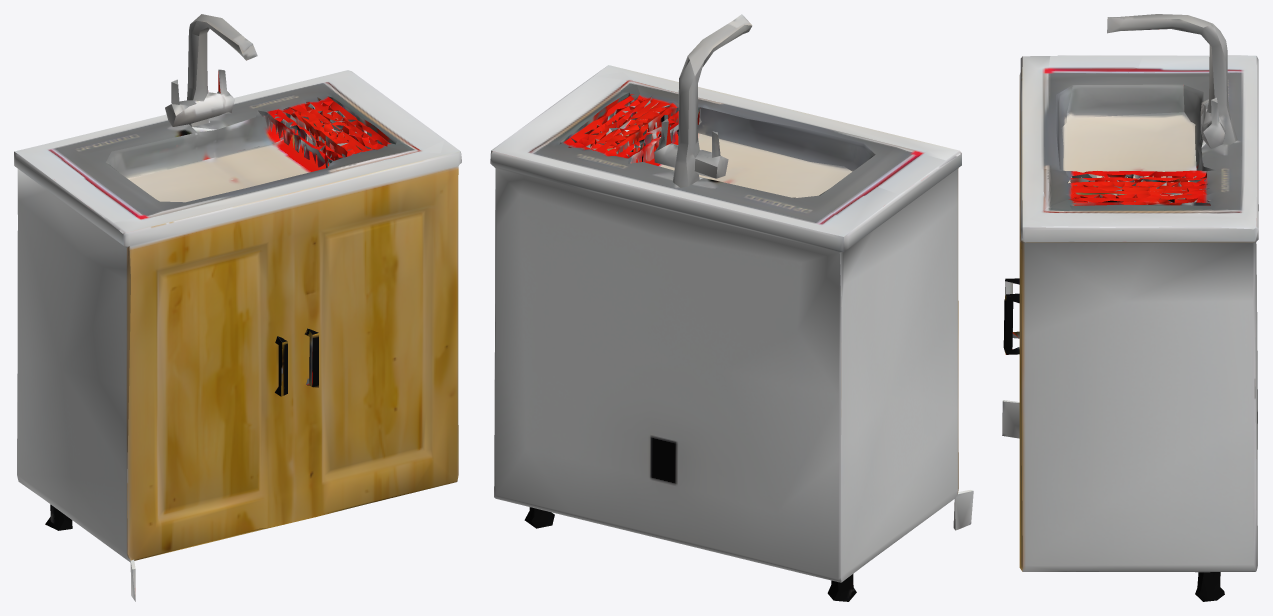
Rendered from Evier1_3D_textured.glb.
The picture shows the model from 3 angles, left to right: view 1: azimuth 30°, elevation 25°; view 2: azimuth 150°, elevation 25°; view 3: azimuth 270°, elevation 25°; orthographic projection. The views are drawn at different scales.
Visible parts, largest first — view 1: temp_mesh.ply; view 2: temp_mesh.ply; view 3: temp_mesh.ply.
Boxes of the visible parts, <box> form: temp_mesh.ply: <box>14,14,461,601</box>; temp_mesh.ply: <box>490,14,973,601</box>; temp_mesh.ply: <box>1002,14,1258,601</box>.
Size of the model in its own units: 1.45 by 1.97 by 0.9062.
1 material, 1 textured.
